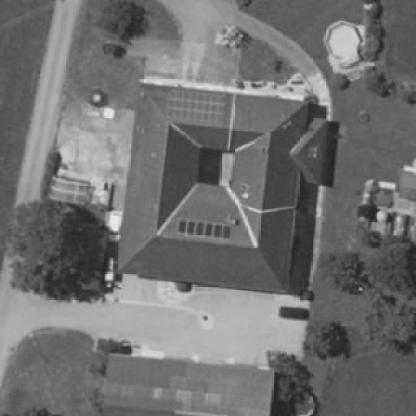solar-pv-panel: (168, 89, 226, 122), (176, 219, 232, 239)
